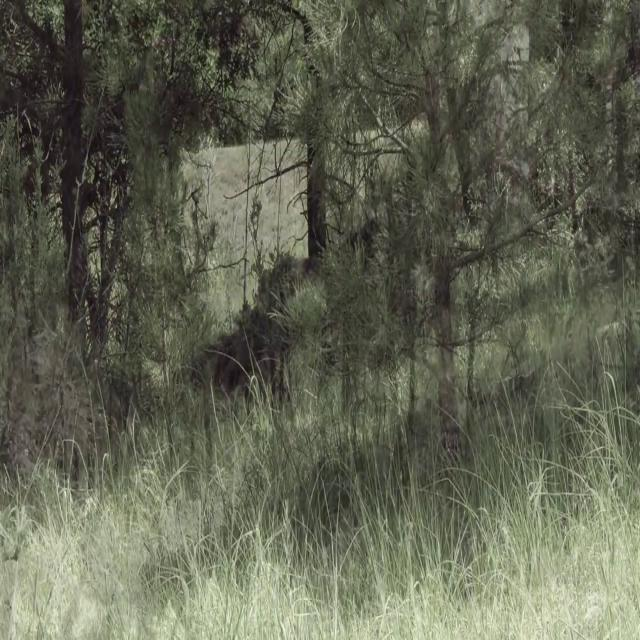Camouflage: (201, 263, 296, 411)
